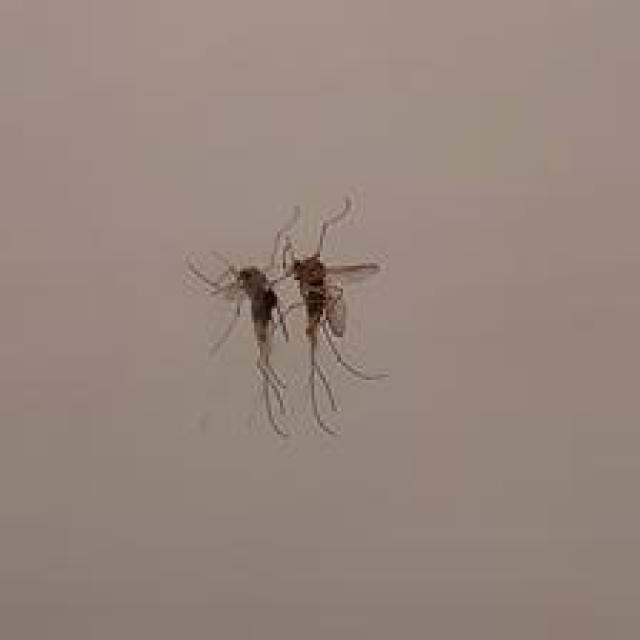Culex: (183, 193, 388, 438)
